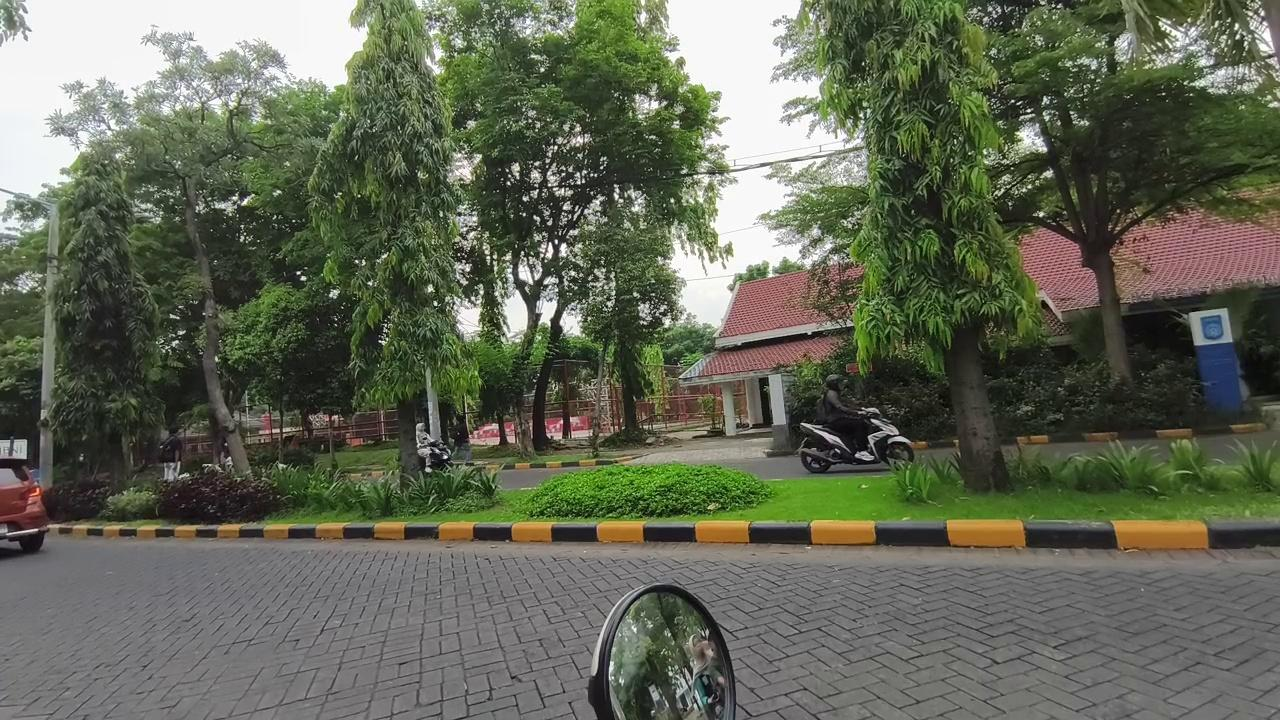Helmet: (816, 374, 872, 460)
Motor: (799, 408, 913, 473), (417, 439, 452, 472)
